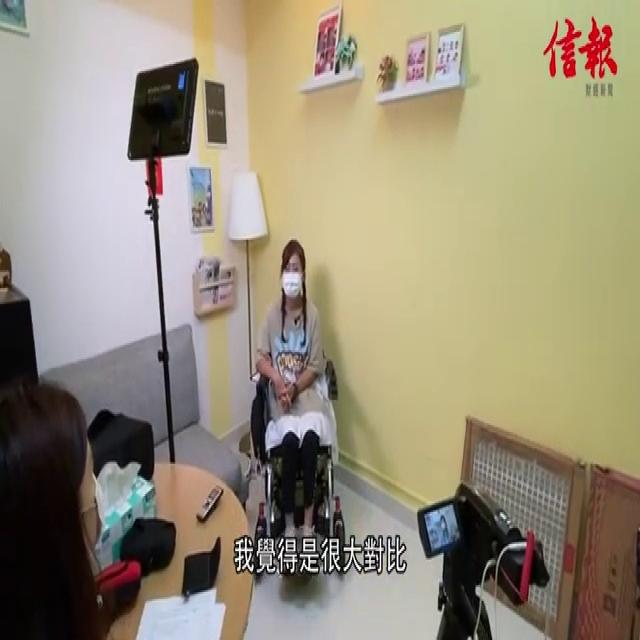wheelchairs: (242, 338, 355, 603)
